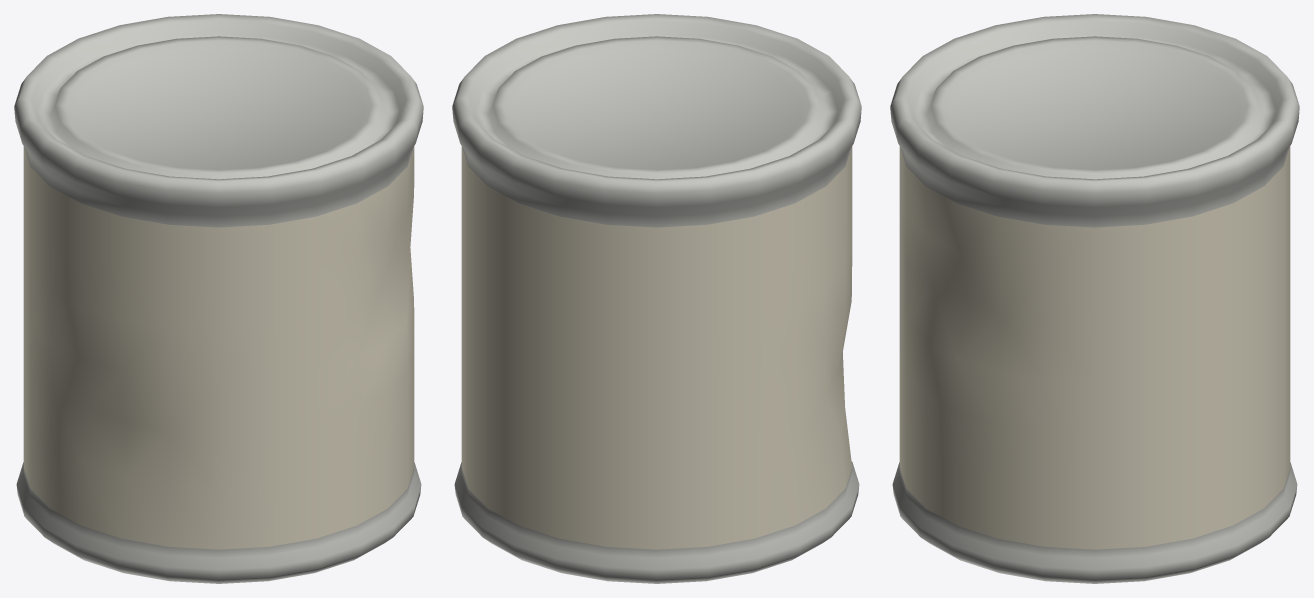
File: js_can_2.glb
3 renders of one model, left to right at view 1: azimuth 30°, elevation 25°; view 2: azimuth 150°, elevation 25°; view 3: azimuth 270°, elevation 25°, orthographic.
Visible parts, largest first — view 1: js_can_2; view 2: js_can_2; view 3: js_can_2.
Part boxes in pixels (x1,y1,x2,y2): js_can_2: (14, 14, 423, 583); js_can_2: (452, 14, 861, 583); js_can_2: (890, 14, 1299, 583).
Size of the model in its own units: 0.174 by 0.19 by 0.174.
